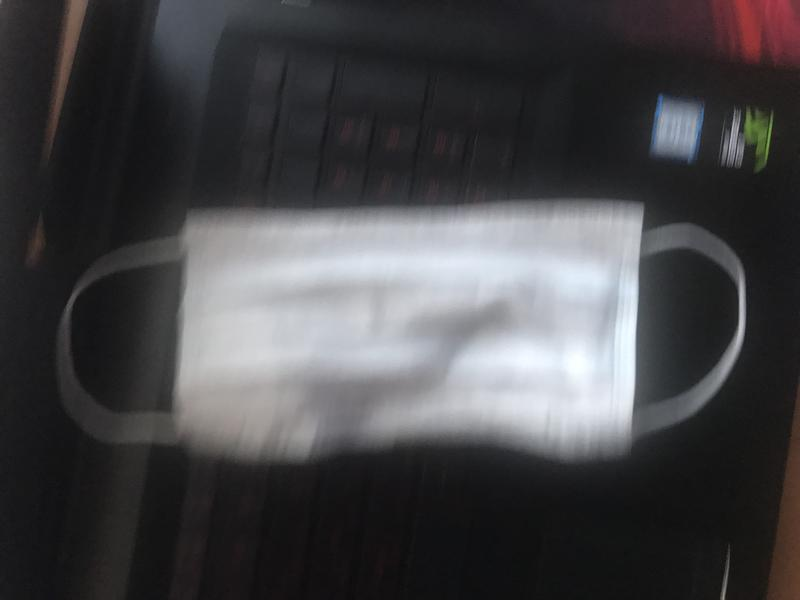medical_mask: (58, 202, 752, 463)
